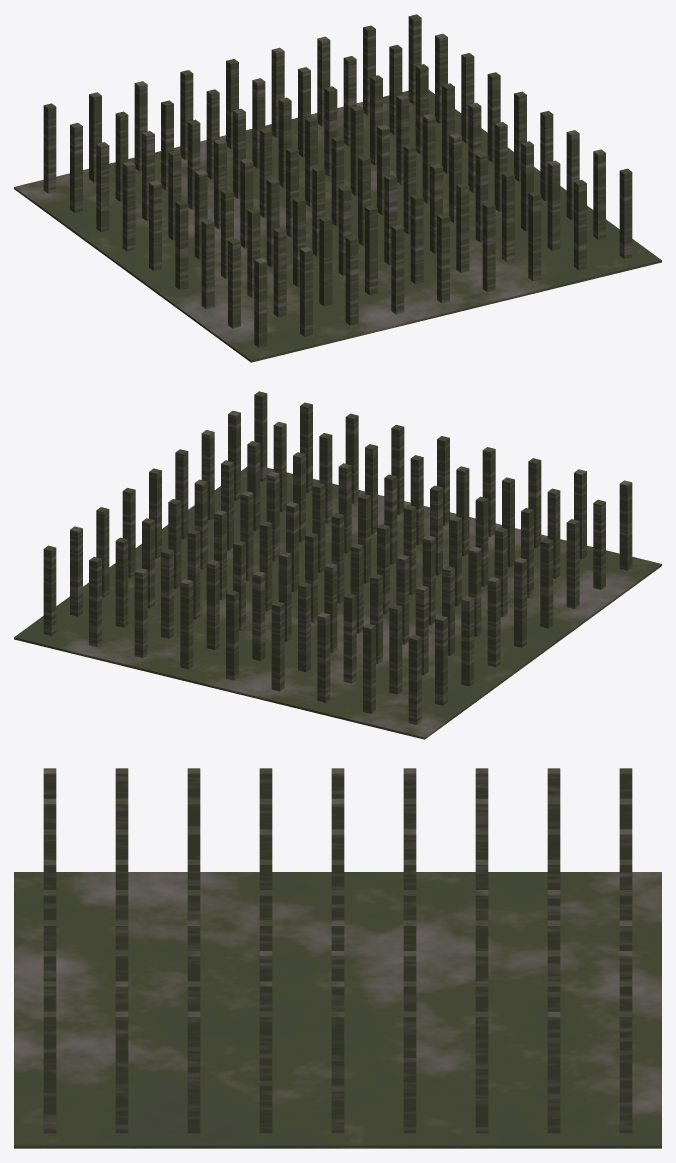
File: Hall.glb
The picture shows the model from 3 angles, top to bottom: view 1: azimuth 30°, elevation 25°; view 2: azimuth 150°, elevation 25°; view 3: azimuth 270°, elevation 25°; orthographic projection. The views are drawn at different scales.
Visible parts, largest first — view 1: Grid; view 2: Grid; view 3: Grid.
Part boxes in pixels (left/top/right/bottom): Grid: left=14, top=14, right=661, bottom=362; Grid: left=14, top=391, right=661, bottom=739; Grid: left=14, top=768, right=661, bottom=1148.
Bounding box in the file's own units: 20 × 4.05 × 20.
1 material, 1 textured.
